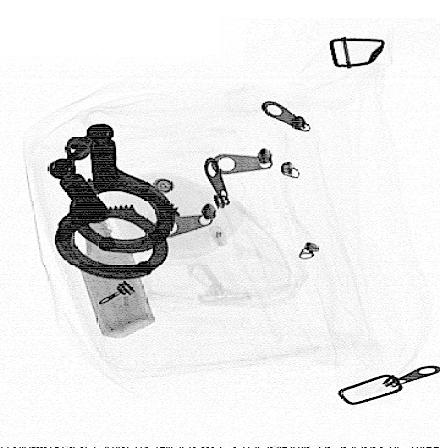HandCuffs: (43, 120, 181, 283)
